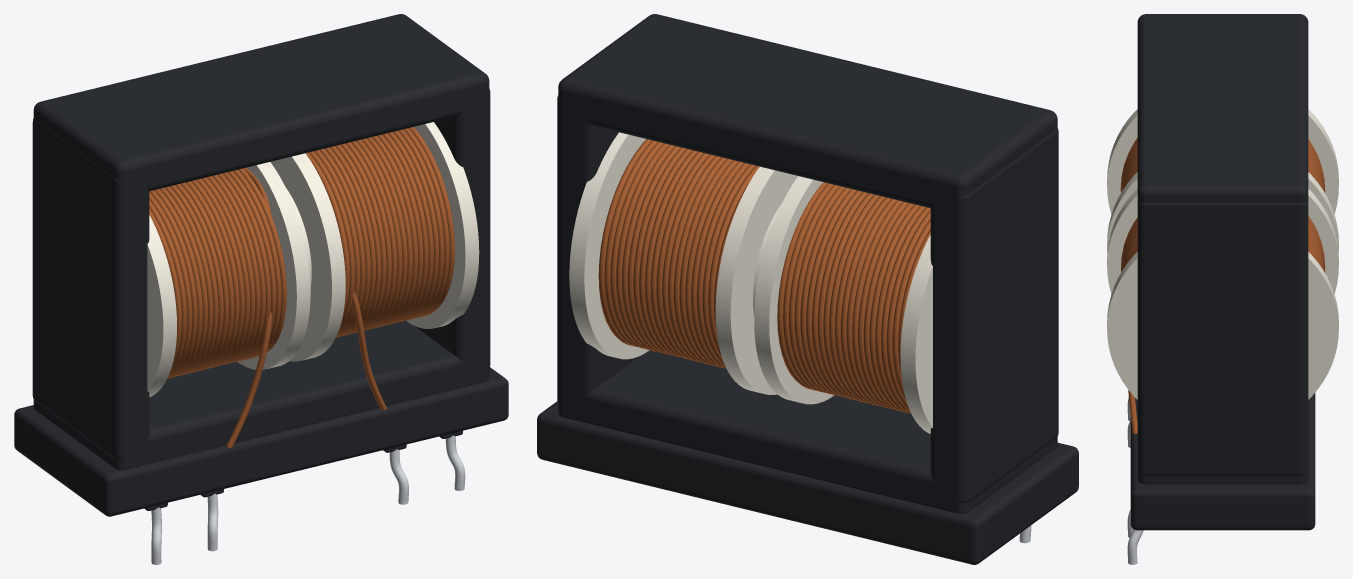
File: components-04.glb
The picture shows the model from 3 angles, left to right: view 1: azimuth 30°, elevation 25°; view 2: azimuth 150°, elevation 25°; view 3: azimuth 270°, elevation 25°; orthographic projection. The views are drawn at different scales.
Visible parts, largest first — view 1: frame, terminals, bobbin, primary, secondary; view 2: frame, terminals, bobbin, primary, secondary; view 3: frame, bobbin, terminals, secondary, primary.
Boxes of the visible parts, x1=… form: frame: x1=32, y1=14, x2=490, y2=469; terminals: x1=14, y1=367, x2=508, y2=564; bobbin: x1=147, y1=122, x2=479, y2=397; primary: x1=149, y1=167, x2=286, y2=447; secondary: x1=305, y1=127, x2=454, y2=410; frame: x1=557, y1=14, x2=1058, y2=513; terminals: x1=537, y1=401, x2=1078, y2=564; bobbin: x1=569, y1=132, x2=932, y2=433; primary: x1=777, y1=182, x2=930, y2=413; secondary: x1=598, y1=139, x2=759, y2=368; frame: x1=1137, y1=14, x2=1308, y2=484; bobbin: x1=1107, y1=109, x2=1338, y2=399; terminals: x1=1127, y1=393, x2=1315, y2=564; secondary: x1=1120, y1=216, x2=1325, y2=434; primary: x1=1120, y1=138, x2=1325, y2=192.
Size of the model in its own units: 2.3 by 2.2 by 1.18.
